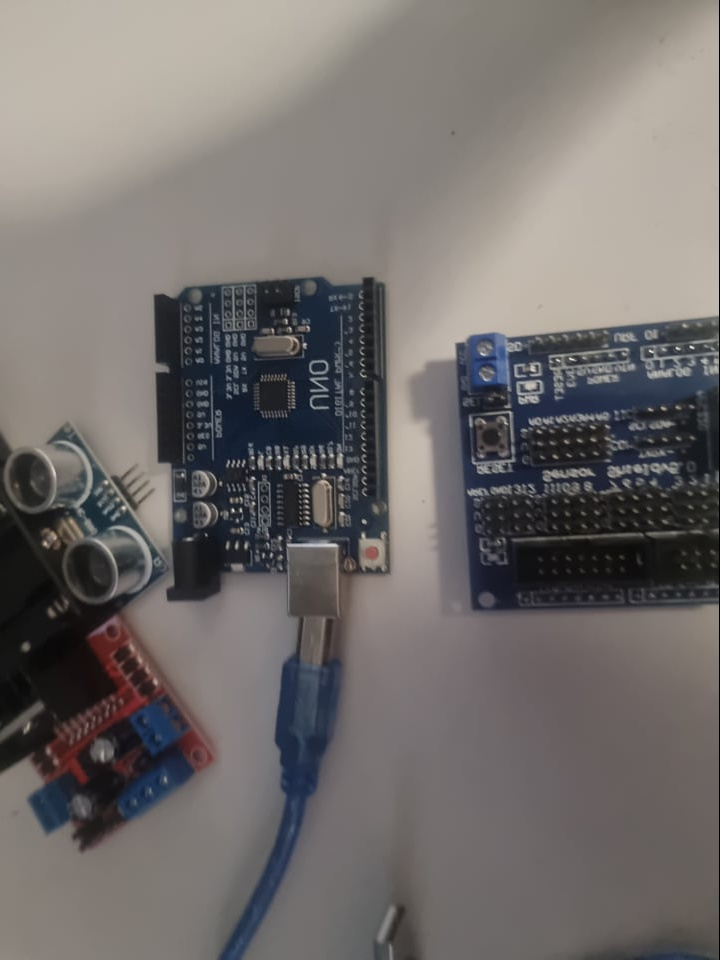5V EXPANSION: (454, 314, 720, 609)
MOTOR: (3, 622, 223, 856)
SENSOR: (6, 423, 164, 610)
UNO R3: (144, 268, 400, 622)
